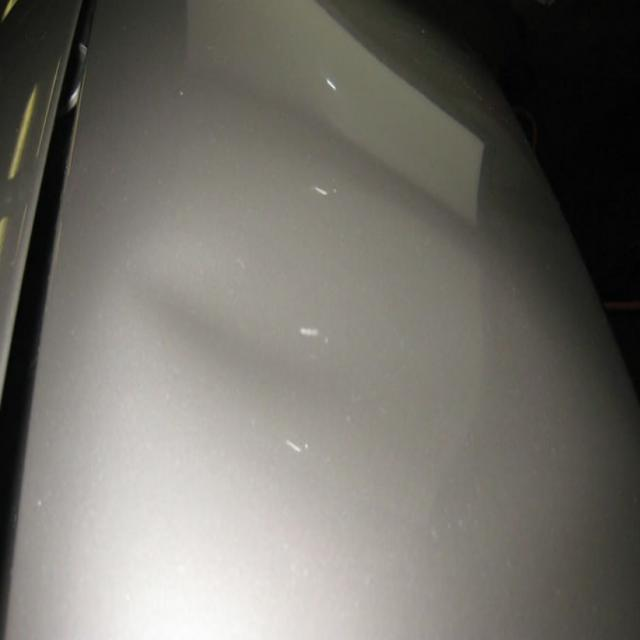dents: (131, 229, 374, 456)
